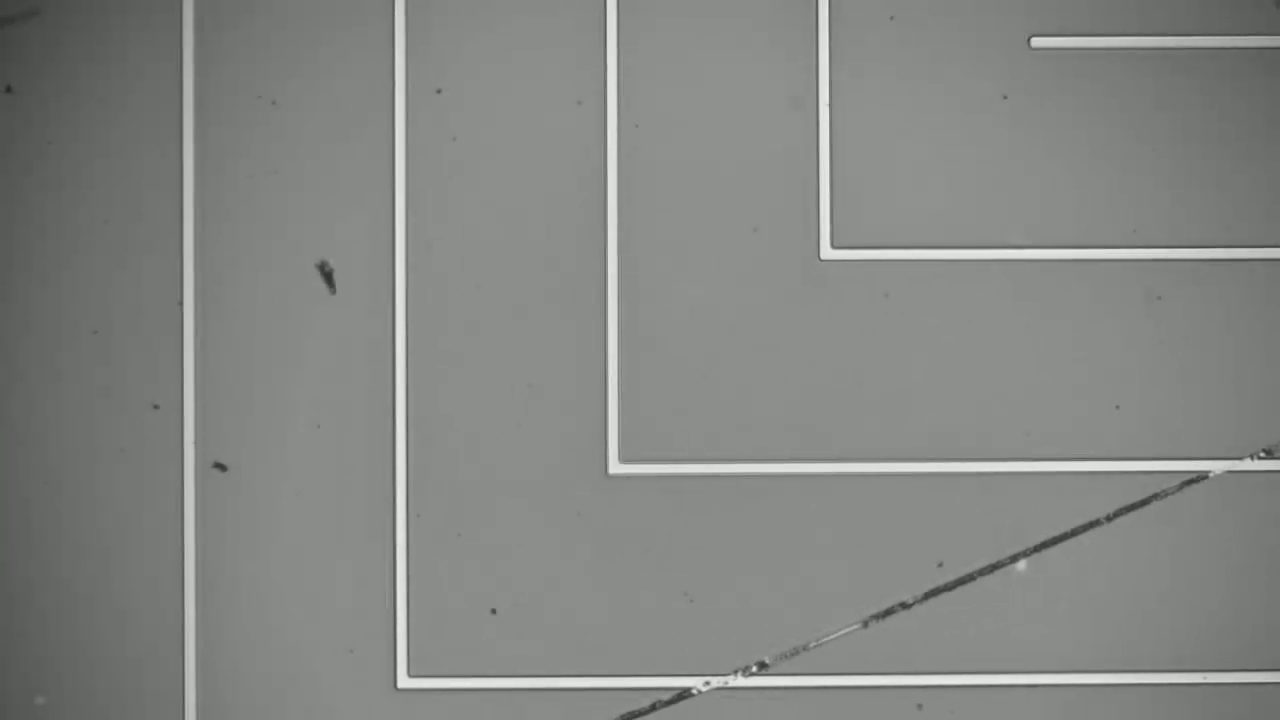scratch: (633, 442, 1278, 708)
